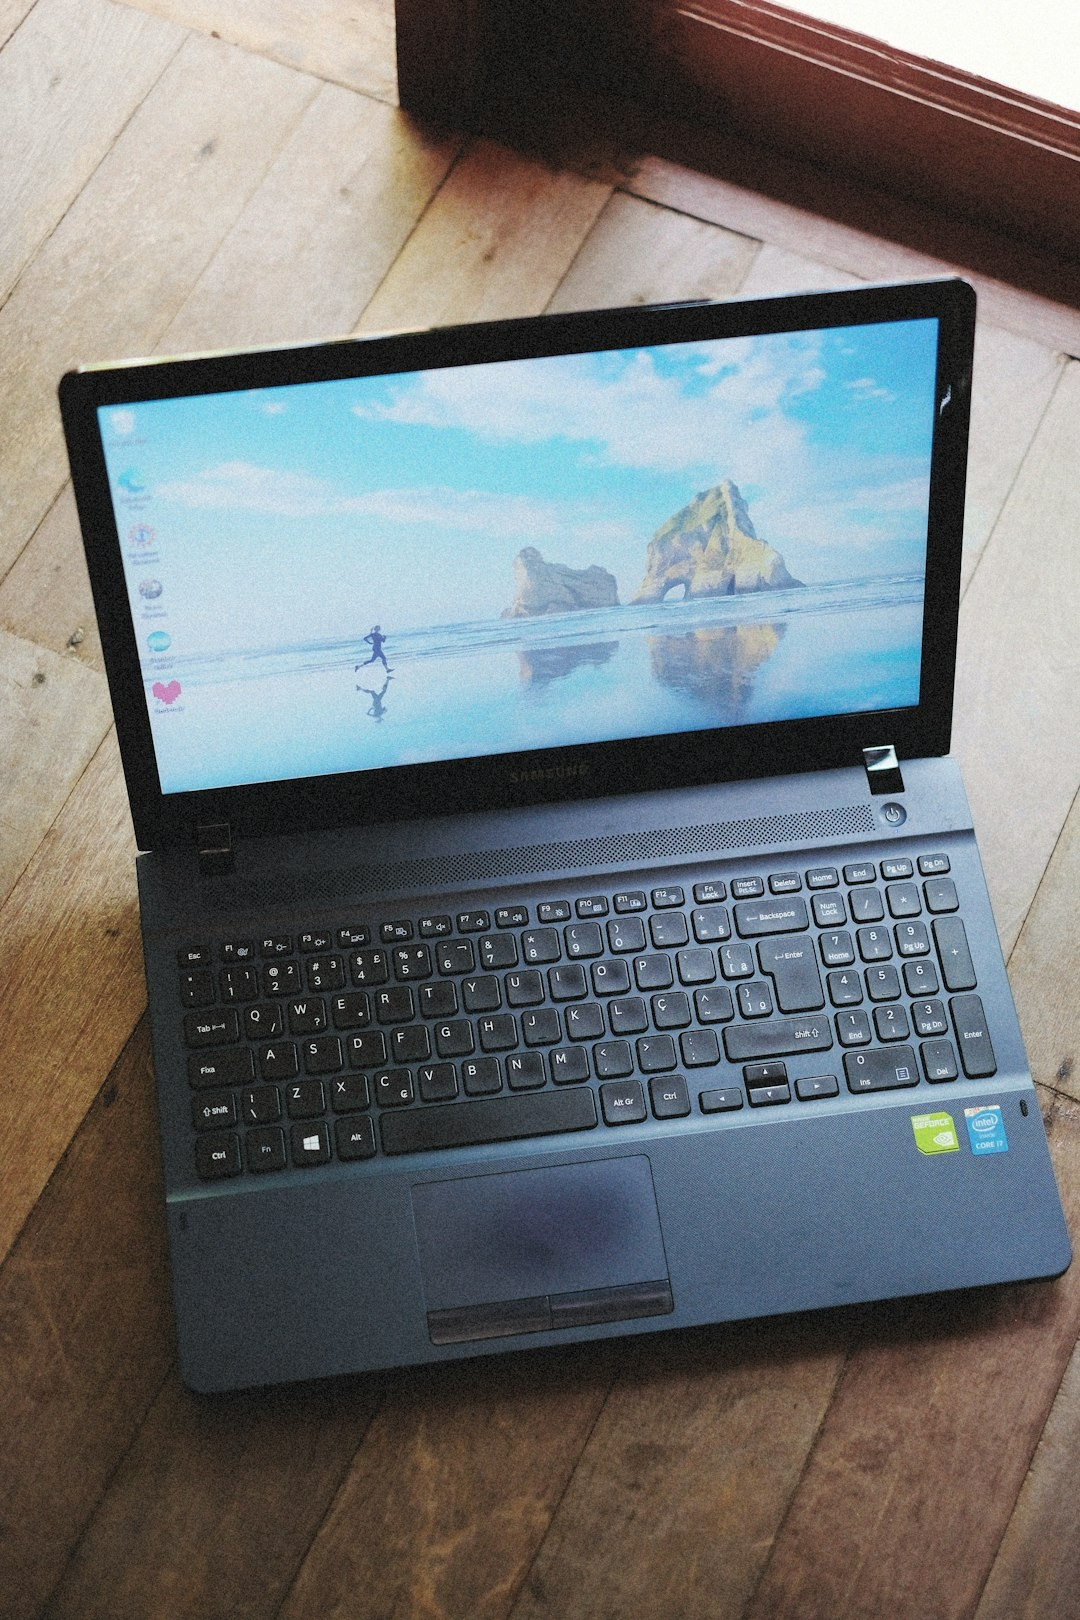laptop: (13, 247, 1080, 1460)
